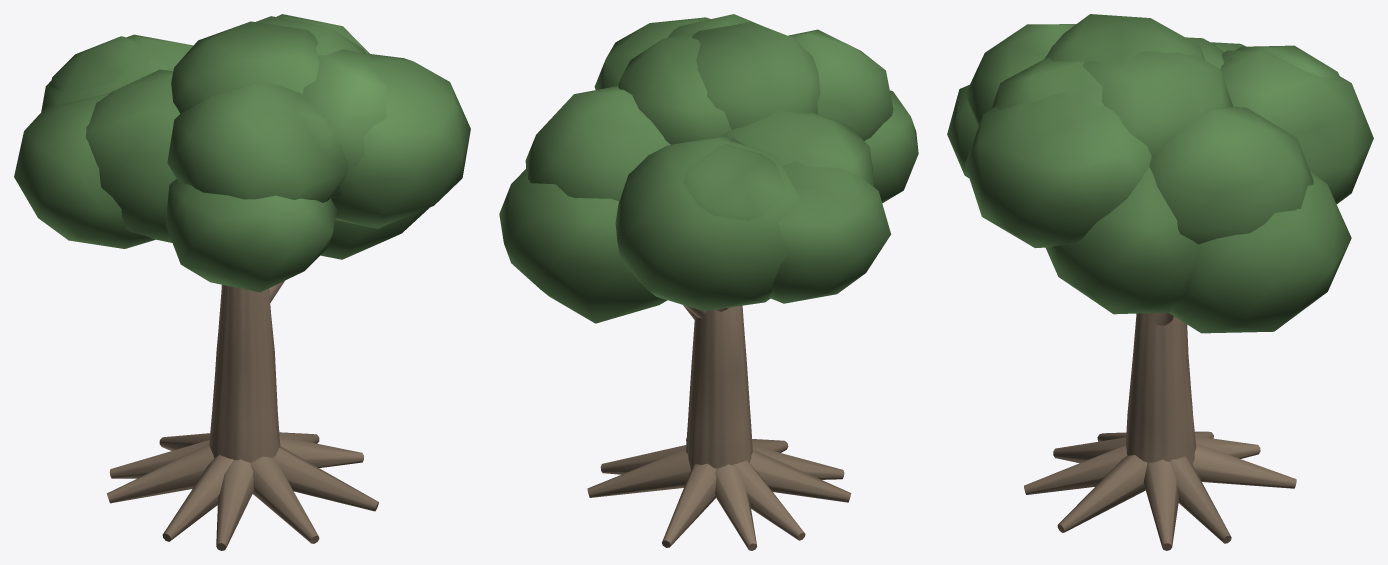
File: ancient-tree-roots-v01.glb
The picture shows the model from 3 angles, left to right: view 1: azimuth 30°, elevation 25°; view 2: azimuth 150°, elevation 25°; view 3: azimuth 270°, elevation 25°; orthographic projection. The views are drawn at different scales.
Visible parts, largest first — view 1: ancient-tree; view 2: ancient-tree; view 3: ancient-tree.
Part boxes in pixels (left/top/right/bottom): ancient-tree: left=14, top=14, right=470, bottom=550; ancient-tree: left=499, top=14, right=918, bottom=550; ancient-tree: left=947, top=14, right=1373, bottom=550.
Size of the model in its own units: 6.75 by 8.33 by 6.92.
